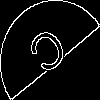C: (25, 24, 75, 83)
